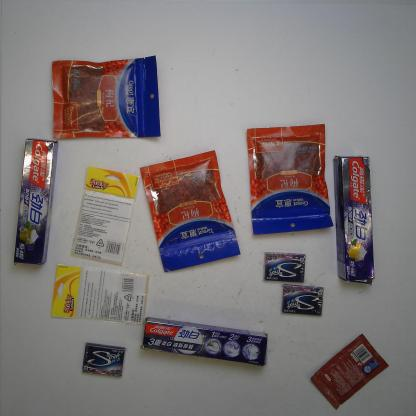Dried Fruit: (139, 150, 242, 274), (244, 122, 334, 237), (51, 55, 163, 142)
Gum: (80, 343, 126, 377), (280, 284, 324, 317), (263, 252, 307, 283)
Personal Hygiene: (138, 315, 270, 366), (332, 154, 378, 287), (13, 137, 59, 267)
Seasoner: (309, 333, 391, 410)
Stationery: (70, 166, 140, 268), (48, 263, 152, 326)
